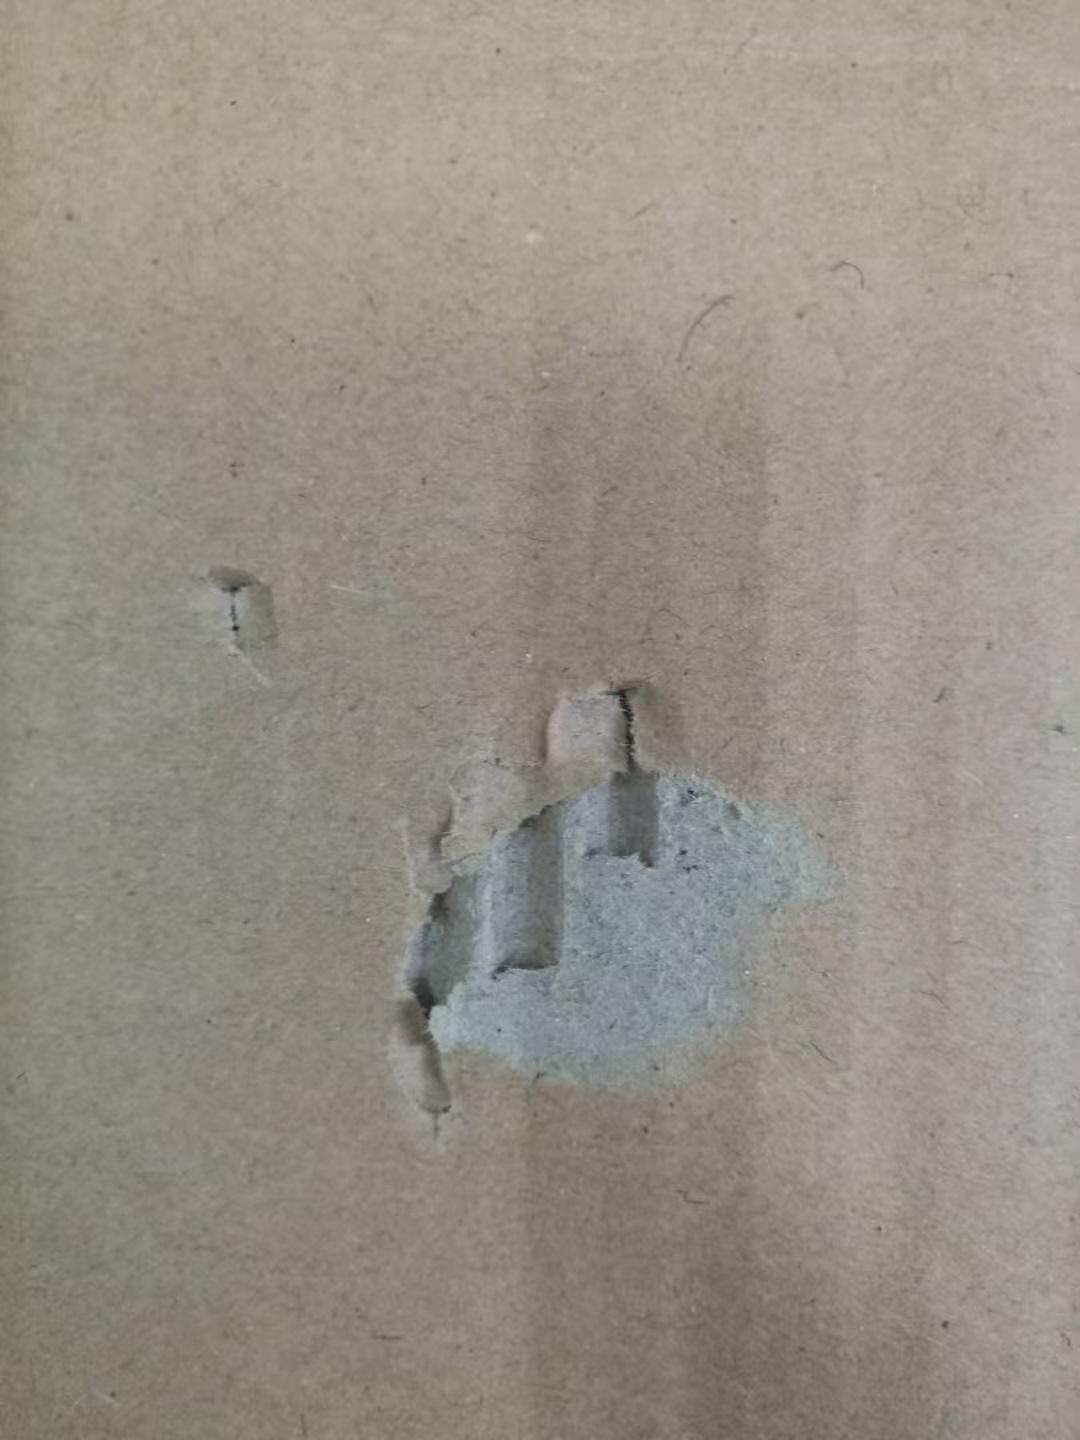defect: (368, 641, 885, 1170), (160, 530, 324, 728)
